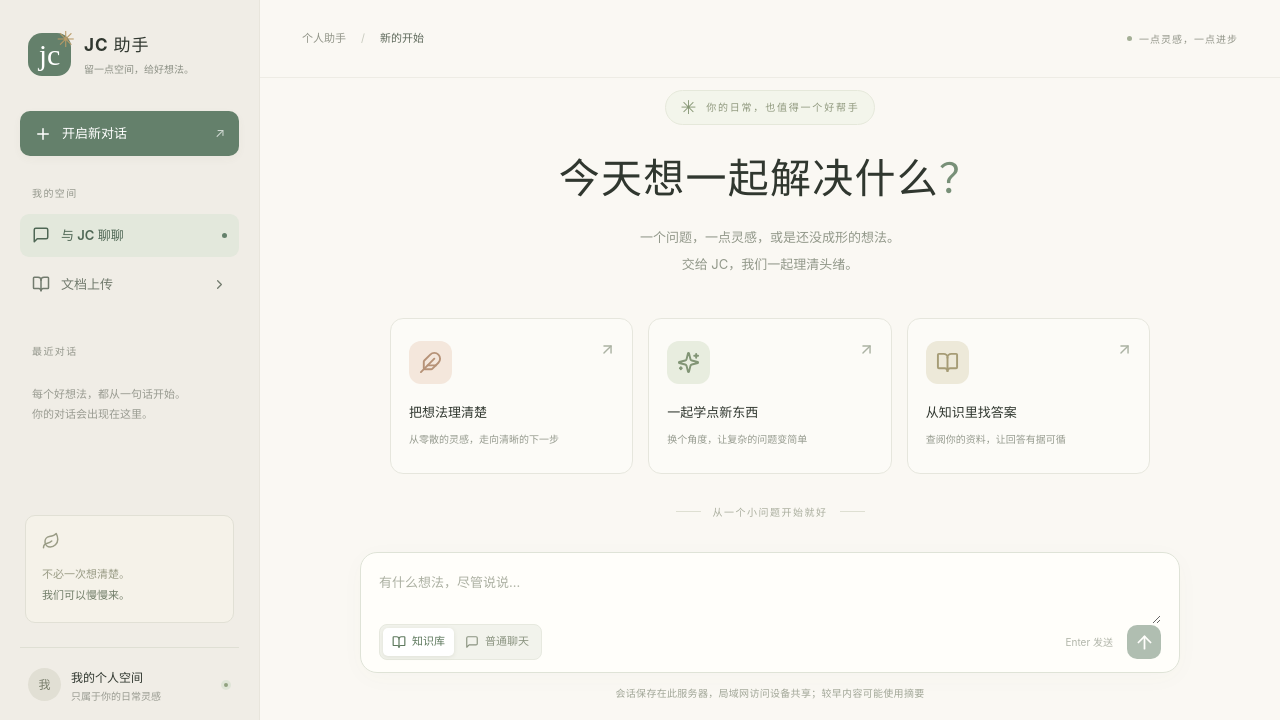
Test: 服务器多轮会话 › 失败重试先核对状态，复用请求 ID，不重复插入问题
In the text box named "输入问题": (770, 597) x1=379 y1=569 x2=1161 y2=624, type "测试问题"
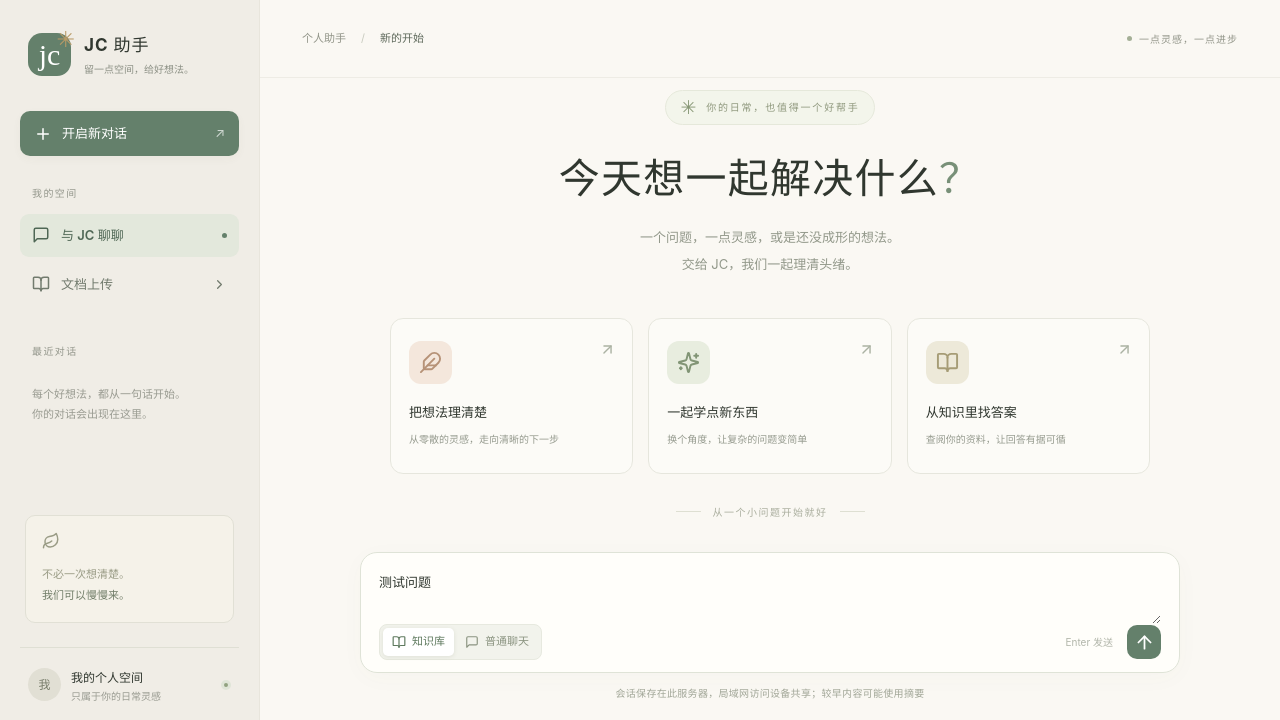
Click the button named "发送问题": click(1144, 642) x1=1127 y1=625 x2=1161 y2=659
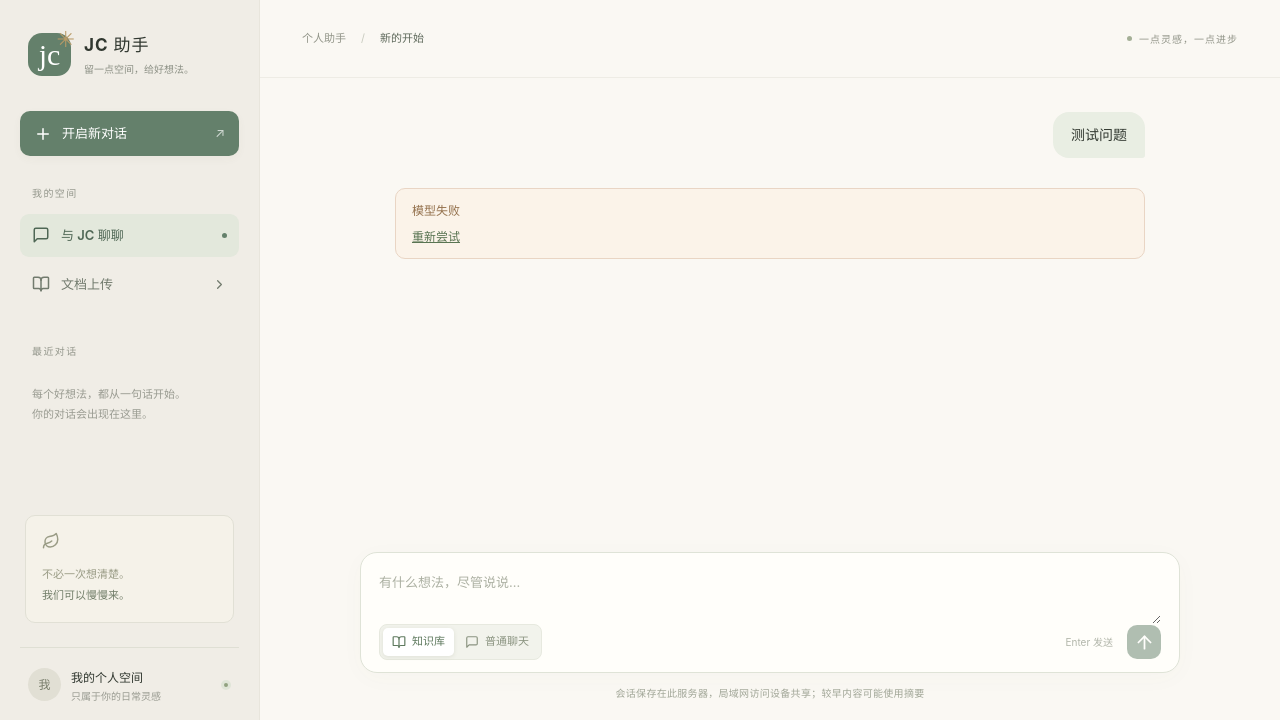
Expected: the message shows "模型失败", x1=412 y1=203 x2=460 y2=218
Click the button "重新尝试": click(436, 236) x1=412 y1=227 x2=460 y2=246
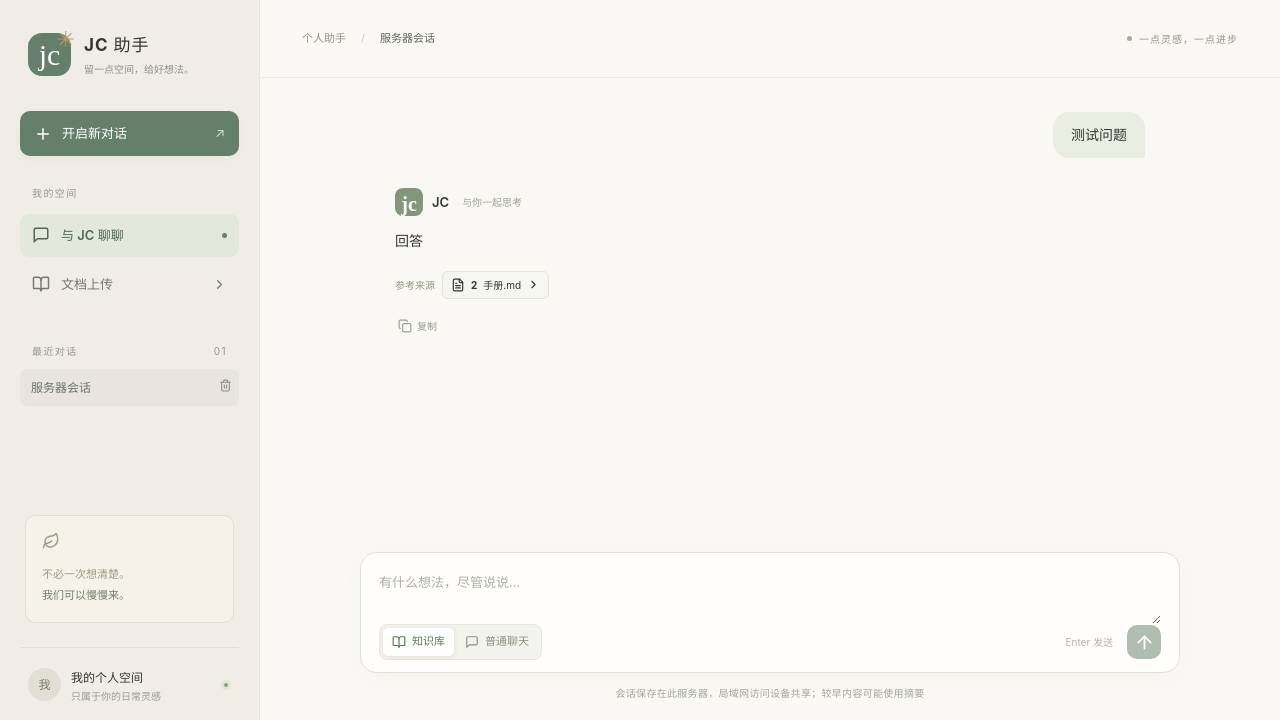
Expected: the text "测试问题" is shown once, x1=1053 y1=112 x2=1145 y2=158
Expected: the text "回答" is shown, x1=395 y1=232 x2=423 y2=249
